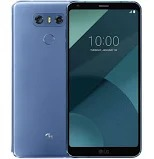lg: (63, 2, 144, 159)
